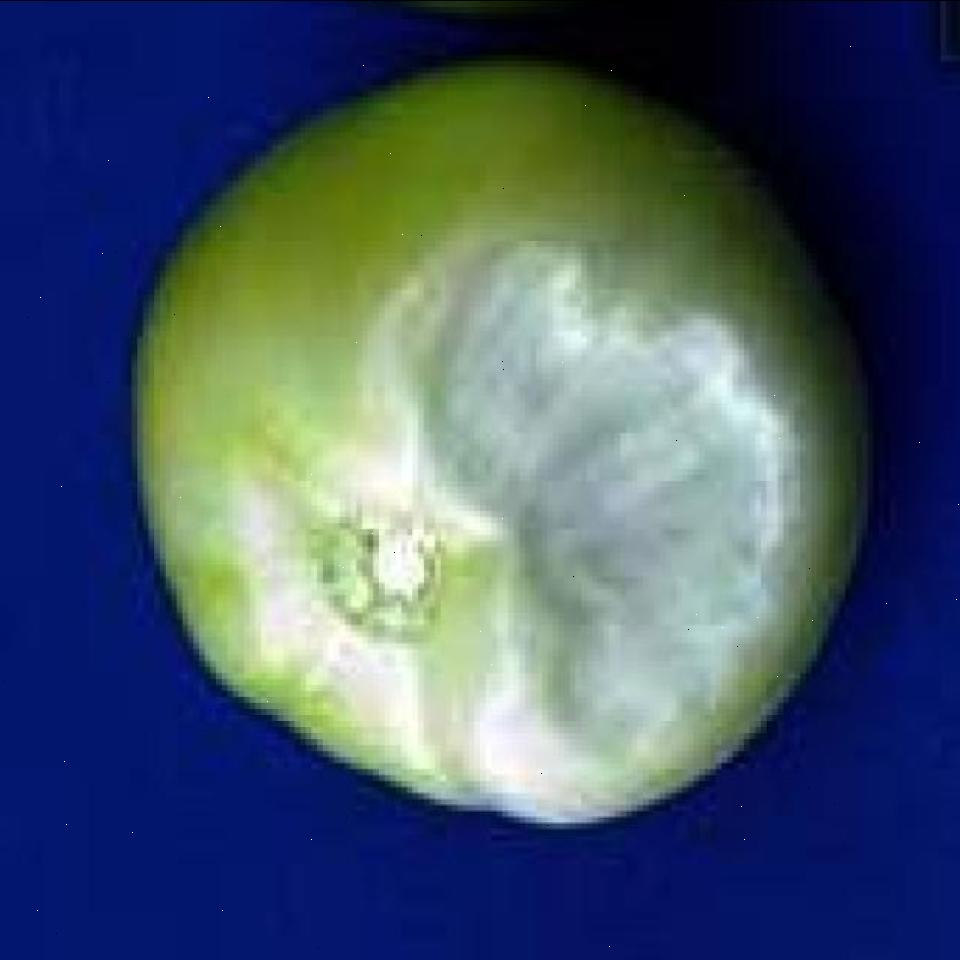Sunscald: (376, 250, 797, 820), (213, 434, 398, 796)
